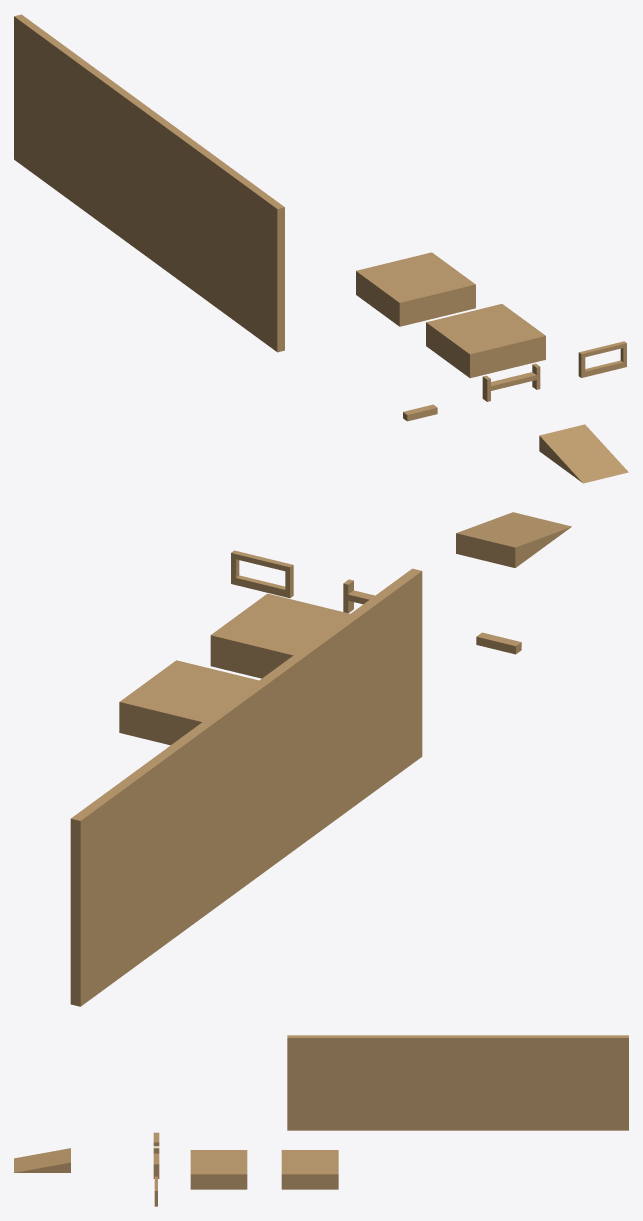
File: Level_Freestyle_01_DEV.glb
The picture shows the model from 3 angles, top to bottom: view 1: azimuth 30°, elevation 25°; view 2: azimuth 150°, elevation 25°; view 3: azimuth 270°, elevation 25°; orthographic projection. The views are drawn at different scales.
Visible parts, largest first — view 1: DevWall-col, GapTakeoff-col, GapLanding-col, Slope_1in5-col; view 2: DevWall-col, GapTakeoff-col, GapLanding-col, Slope_1in5-col; view 3: DevWall-col, GapTakeoff-col, GapLanding-col, Slope_1in5-col.
Part boxes in pixels (x1=…): DevWall-col: x1=14, y1=14, x2=284, y2=352; GapTakeoff-col: x1=426, y1=304, x2=545, y2=378; GapLanding-col: x1=356, y1=252, x2=475, y2=326; Slope_1in5-col: x1=539, y1=424, x2=628, y2=483; DevWall-col: x1=70, y1=568, x2=422, y2=1006; GapTakeoff-col: x1=210, y1=593, x2=350, y2=678; GapLanding-col: x1=119, y1=660, x2=258, y2=745; Slope_1in5-col: x1=456, y1=512, x2=571, y2=567; DevWall-col: x1=287, y1=1035, x2=628, y2=1130; GapTakeoff-col: x1=190, y1=1150, x2=247, y2=1189; GapLanding-col: x1=281, y1=1150, x2=338, y2=1189; Slope_1in5-col: x1=14, y1=1148, x2=70, y2=1172.
Bounding box in the file's own units: 32.5 × 18 × 108.
